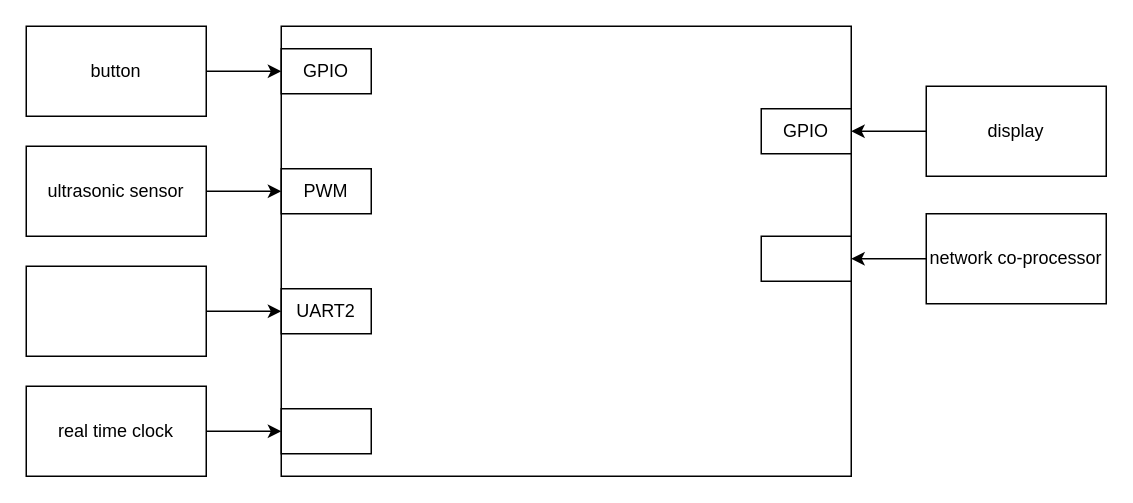
The diagram is 1133 pixels wide and 503 high, and some of its shapes have lost their labels. Here are the shapes that lost their labels. From the top down, the box of each, then its label:
(280, 25, 851, 476): processor
(760, 235, 851, 281): UART3
(25, 265, 206, 356): air quality sensor
(280, 407, 371, 454): I2C
